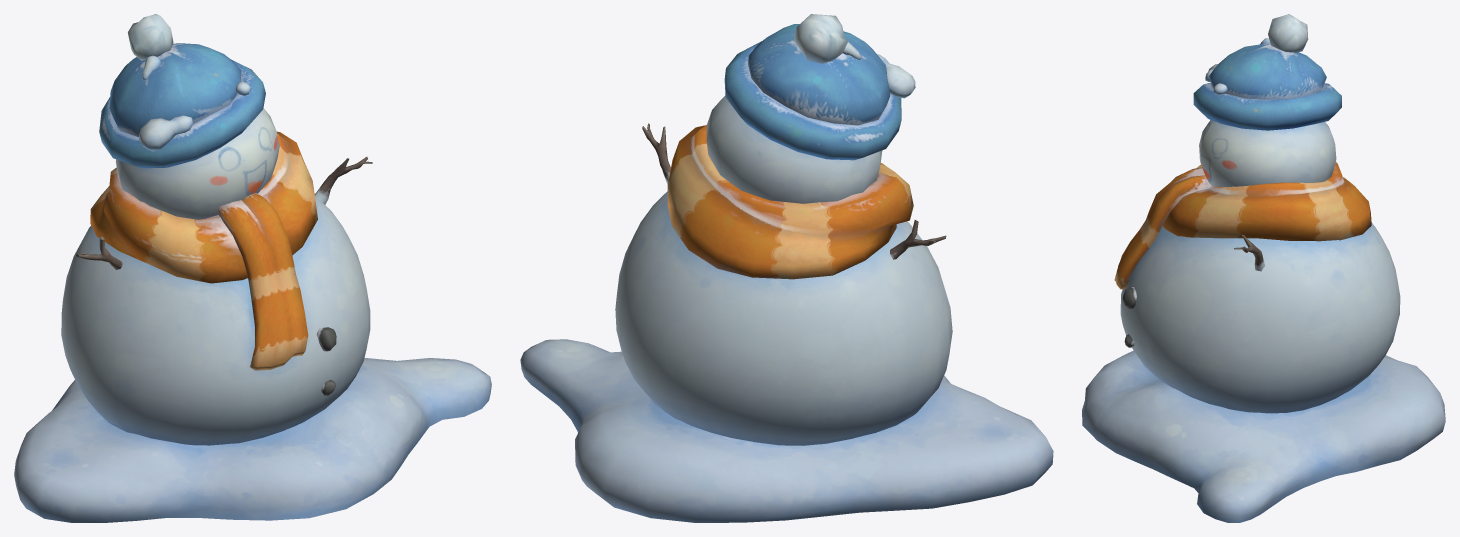
Rendered from Frozen Snowman.glb.
The picture shows the model from 3 angles, left to right: view 1: azimuth 30°, elevation 25°; view 2: azimuth 150°, elevation 25°; view 3: azimuth 270°, elevation 25°; orthographic projection. The views are drawn at different scales.
Parts seen in each view (by area): view 1: Property_Ani_Prop_FrozenSnowman_01_Lod0; view 2: Property_Ani_Prop_FrozenSnowman_01_Lod0; view 3: Property_Ani_Prop_FrozenSnowman_01_Lod0.
Part boxes in pixels (x1,y1,x2,y2): Property_Ani_Prop_FrozenSnowman_01_Lod0: (14,14,491,522); Property_Ani_Prop_FrozenSnowman_01_Lod0: (520,14,1053,522); Property_Ani_Prop_FrozenSnowman_01_Lod0: (1082,14,1445,522).
Bounding box in the file's own units: 2.37 × 2.04 × 1.79.
Materials: 1 (1 with a texture image).
